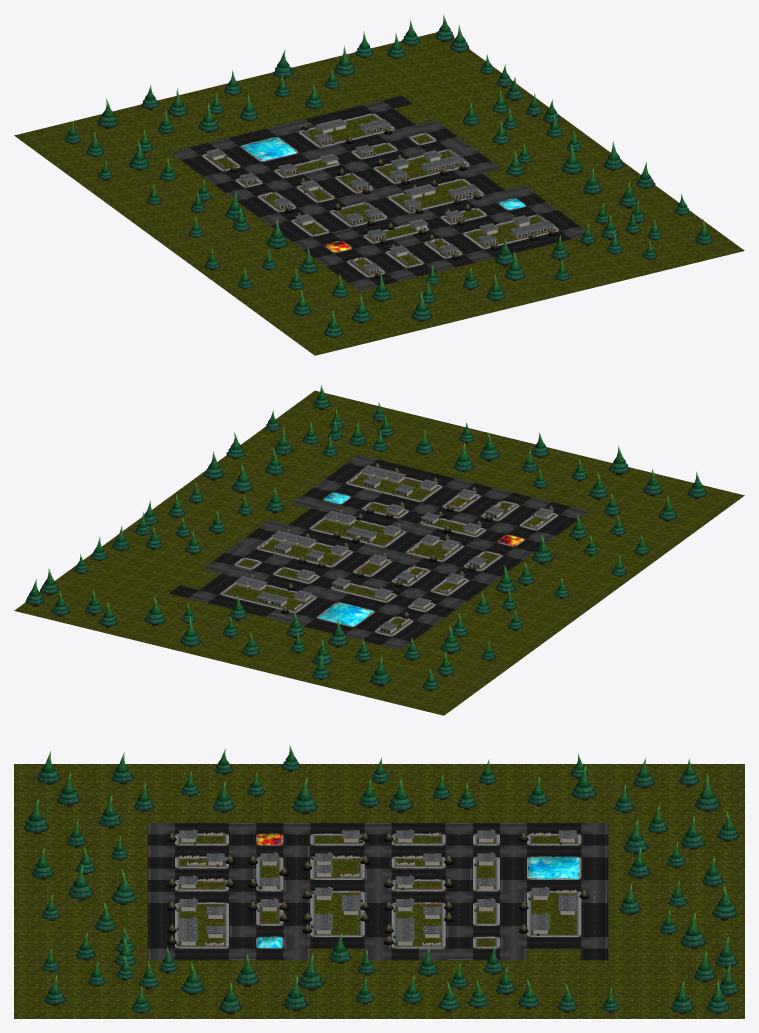
The model's file is gm14_environment_04.FBX.
The picture shows the model from 3 angles, top to bottom: view 1: azimuth 30°, elevation 25°; view 2: azimuth 150°, elevation 25°; view 3: azimuth 270°, elevation 25°; orthographic projection. The views are drawn at different scales.
Parts seen in each view (by area): view 1: env_main_ground_01, env_road_01, env_ground_016, env_ground_ice4x_01; view 2: env_main_ground_01, env_road_01, env_ground_016, env_ground_ice4x_01; view 3: env_main_ground_01, env_road_01, env_ground_016, env_ground_ice4x_01, prp_lampostlight_04, prp_lampostlight_03, prp_lampostlight_02, env_tree_033, env_tree_044, env_tree_066.
Part boxes in pixels (<box>): env_main_ground_01: <box>14,32,744,355</box>; env_road_01: <box>170,95,585,290</box>; env_ground_016: <box>202,113,558,277</box>; env_ground_ice4x_01: <box>241,137,296,160</box>; env_main_ground_01: <box>14,390,744,715</box>; env_road_01: <box>169,455,589,649</box>; env_ground_016: <box>220,471,557,636</box>; env_ground_ice4x_01: <box>318,602,373,626</box>; env_main_ground_01: <box>14,764,744,1018</box>; env_road_01: <box>148,823,608,960</box>; env_ground_016: <box>175,833,581,948</box>; env_ground_ice4x_01: <box>528,856,579,878</box>; prp_lampostlight_04: <box>384,833,453,945</box>; prp_lampostlight_03: <box>302,833,369,933</box>; prp_lampostlight_02: <box>225,856,288,922</box>; env_tree_033: <box>292,777,318,814</box>; env_tree_044: <box>694,774,720,811</box>; env_tree_066: <box>298,954,324,990</box>.
Size of the model in its own units: 134 by 9.01 by 162.
Materials: 14 (14 with a texture image).
